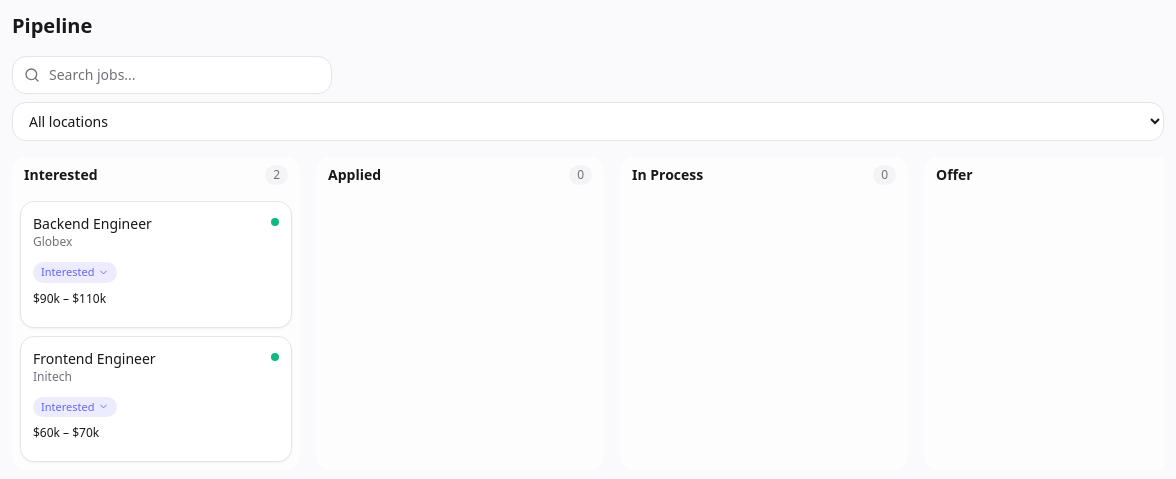
Board search › filters jobs by a debounced search query
Expected: the text "Backend Engineer" is shown, [33, 214, 152, 234]
Type "Frontend" into the field with placeholder "Search jobs..." at [172, 75], box [12, 56, 332, 94]
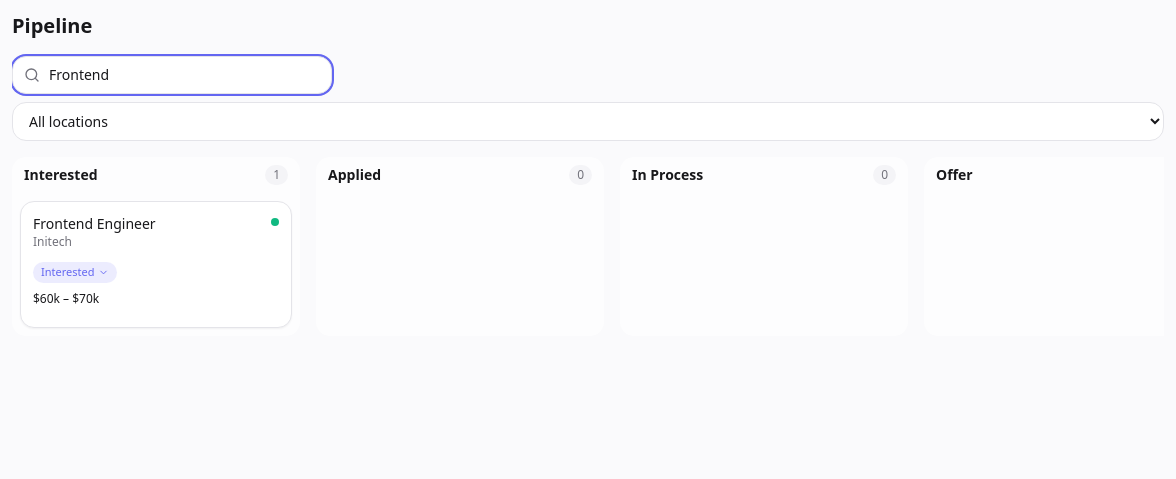
Expected: the text "Frontend Engineer" is shown, [33, 214, 156, 234]
Result: the button "Backend Engineer" is gone
